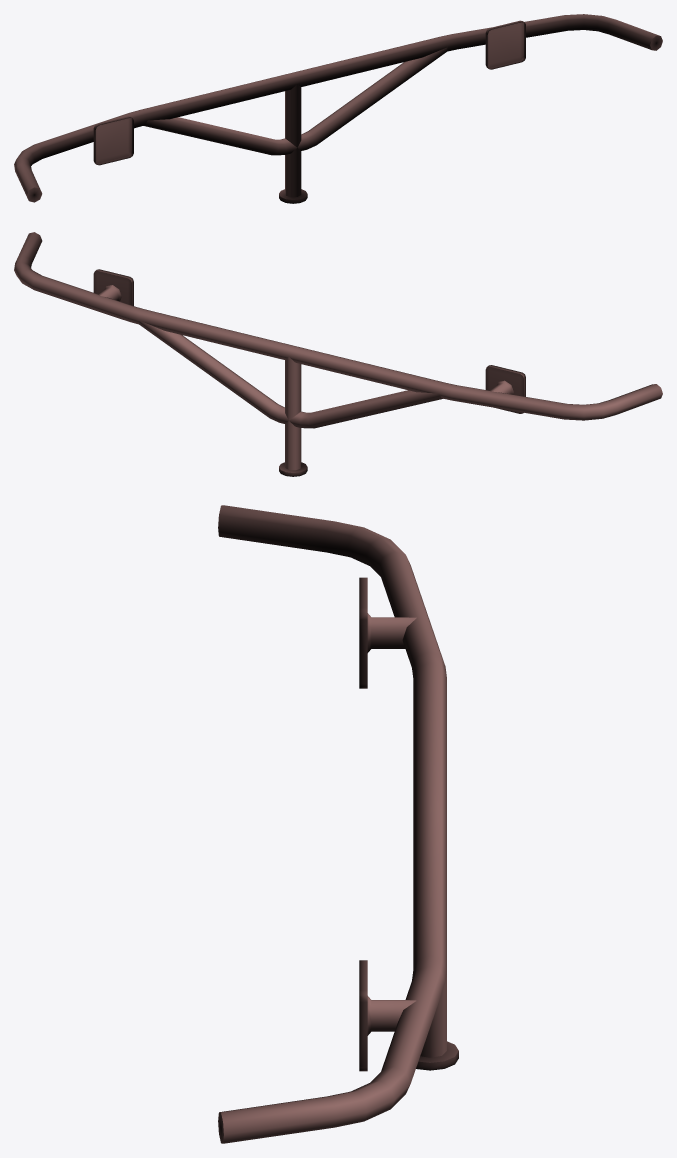
File: Zr1_RB_04_Trim.fbx
3 renders of one model, top to bottom at view 1: azimuth 30°, elevation 25°; view 2: azimuth 150°, elevation 25°; view 3: azimuth 270°, elevation 25°, orthographic. The views are drawn at different scales.
Parts seen in each view (by area): view 1: Zr1_RB_04_Trim; view 2: Zr1_RB_04_Trim; view 3: Zr1_RB_04_Trim.
Part boxes in pixels (x1=…): Zr1_RB_04_Trim: x1=14, y1=14, x2=662, y2=203; Zr1_RB_04_Trim: x1=14, y1=232, x2=662, y2=476; Zr1_RB_04_Trim: x1=218, y1=505, x2=458, y2=1143.
Size of the model in its own units: 174 by 35.81 by 28.52.
